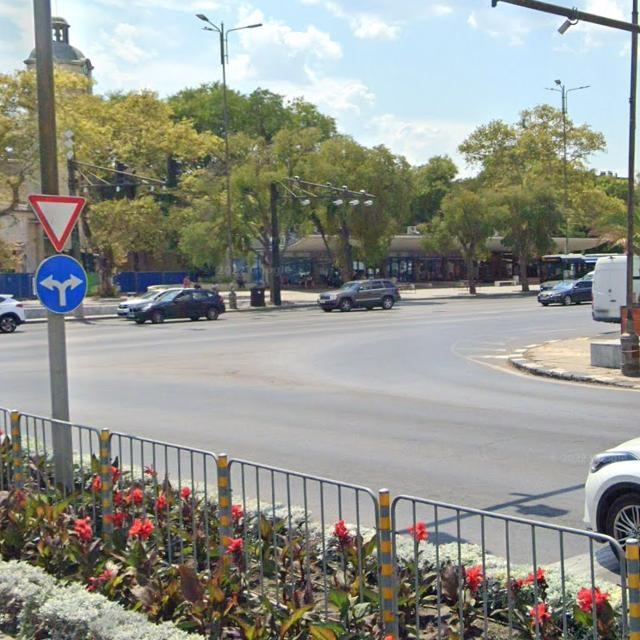prio_give_way: (30, 194, 88, 255)
